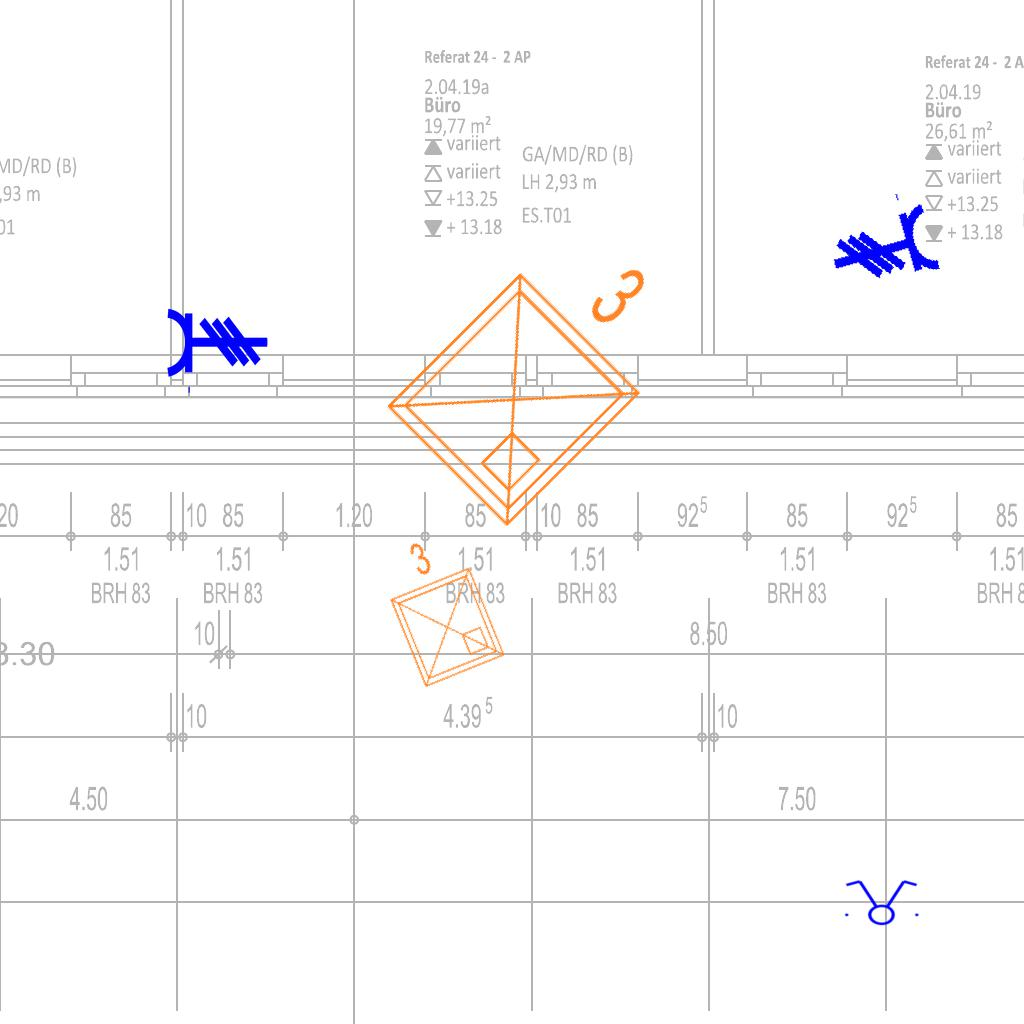CEE_Drehstrom_Steckdose_16_32_A: (818, 184, 944, 300), (165, 306, 269, 396)
Einbaudownlights_LED_Konferenzraeume: (360, 188, 720, 548), (361, 519, 515, 699)
Serienschalter: (839, 878, 923, 926)
